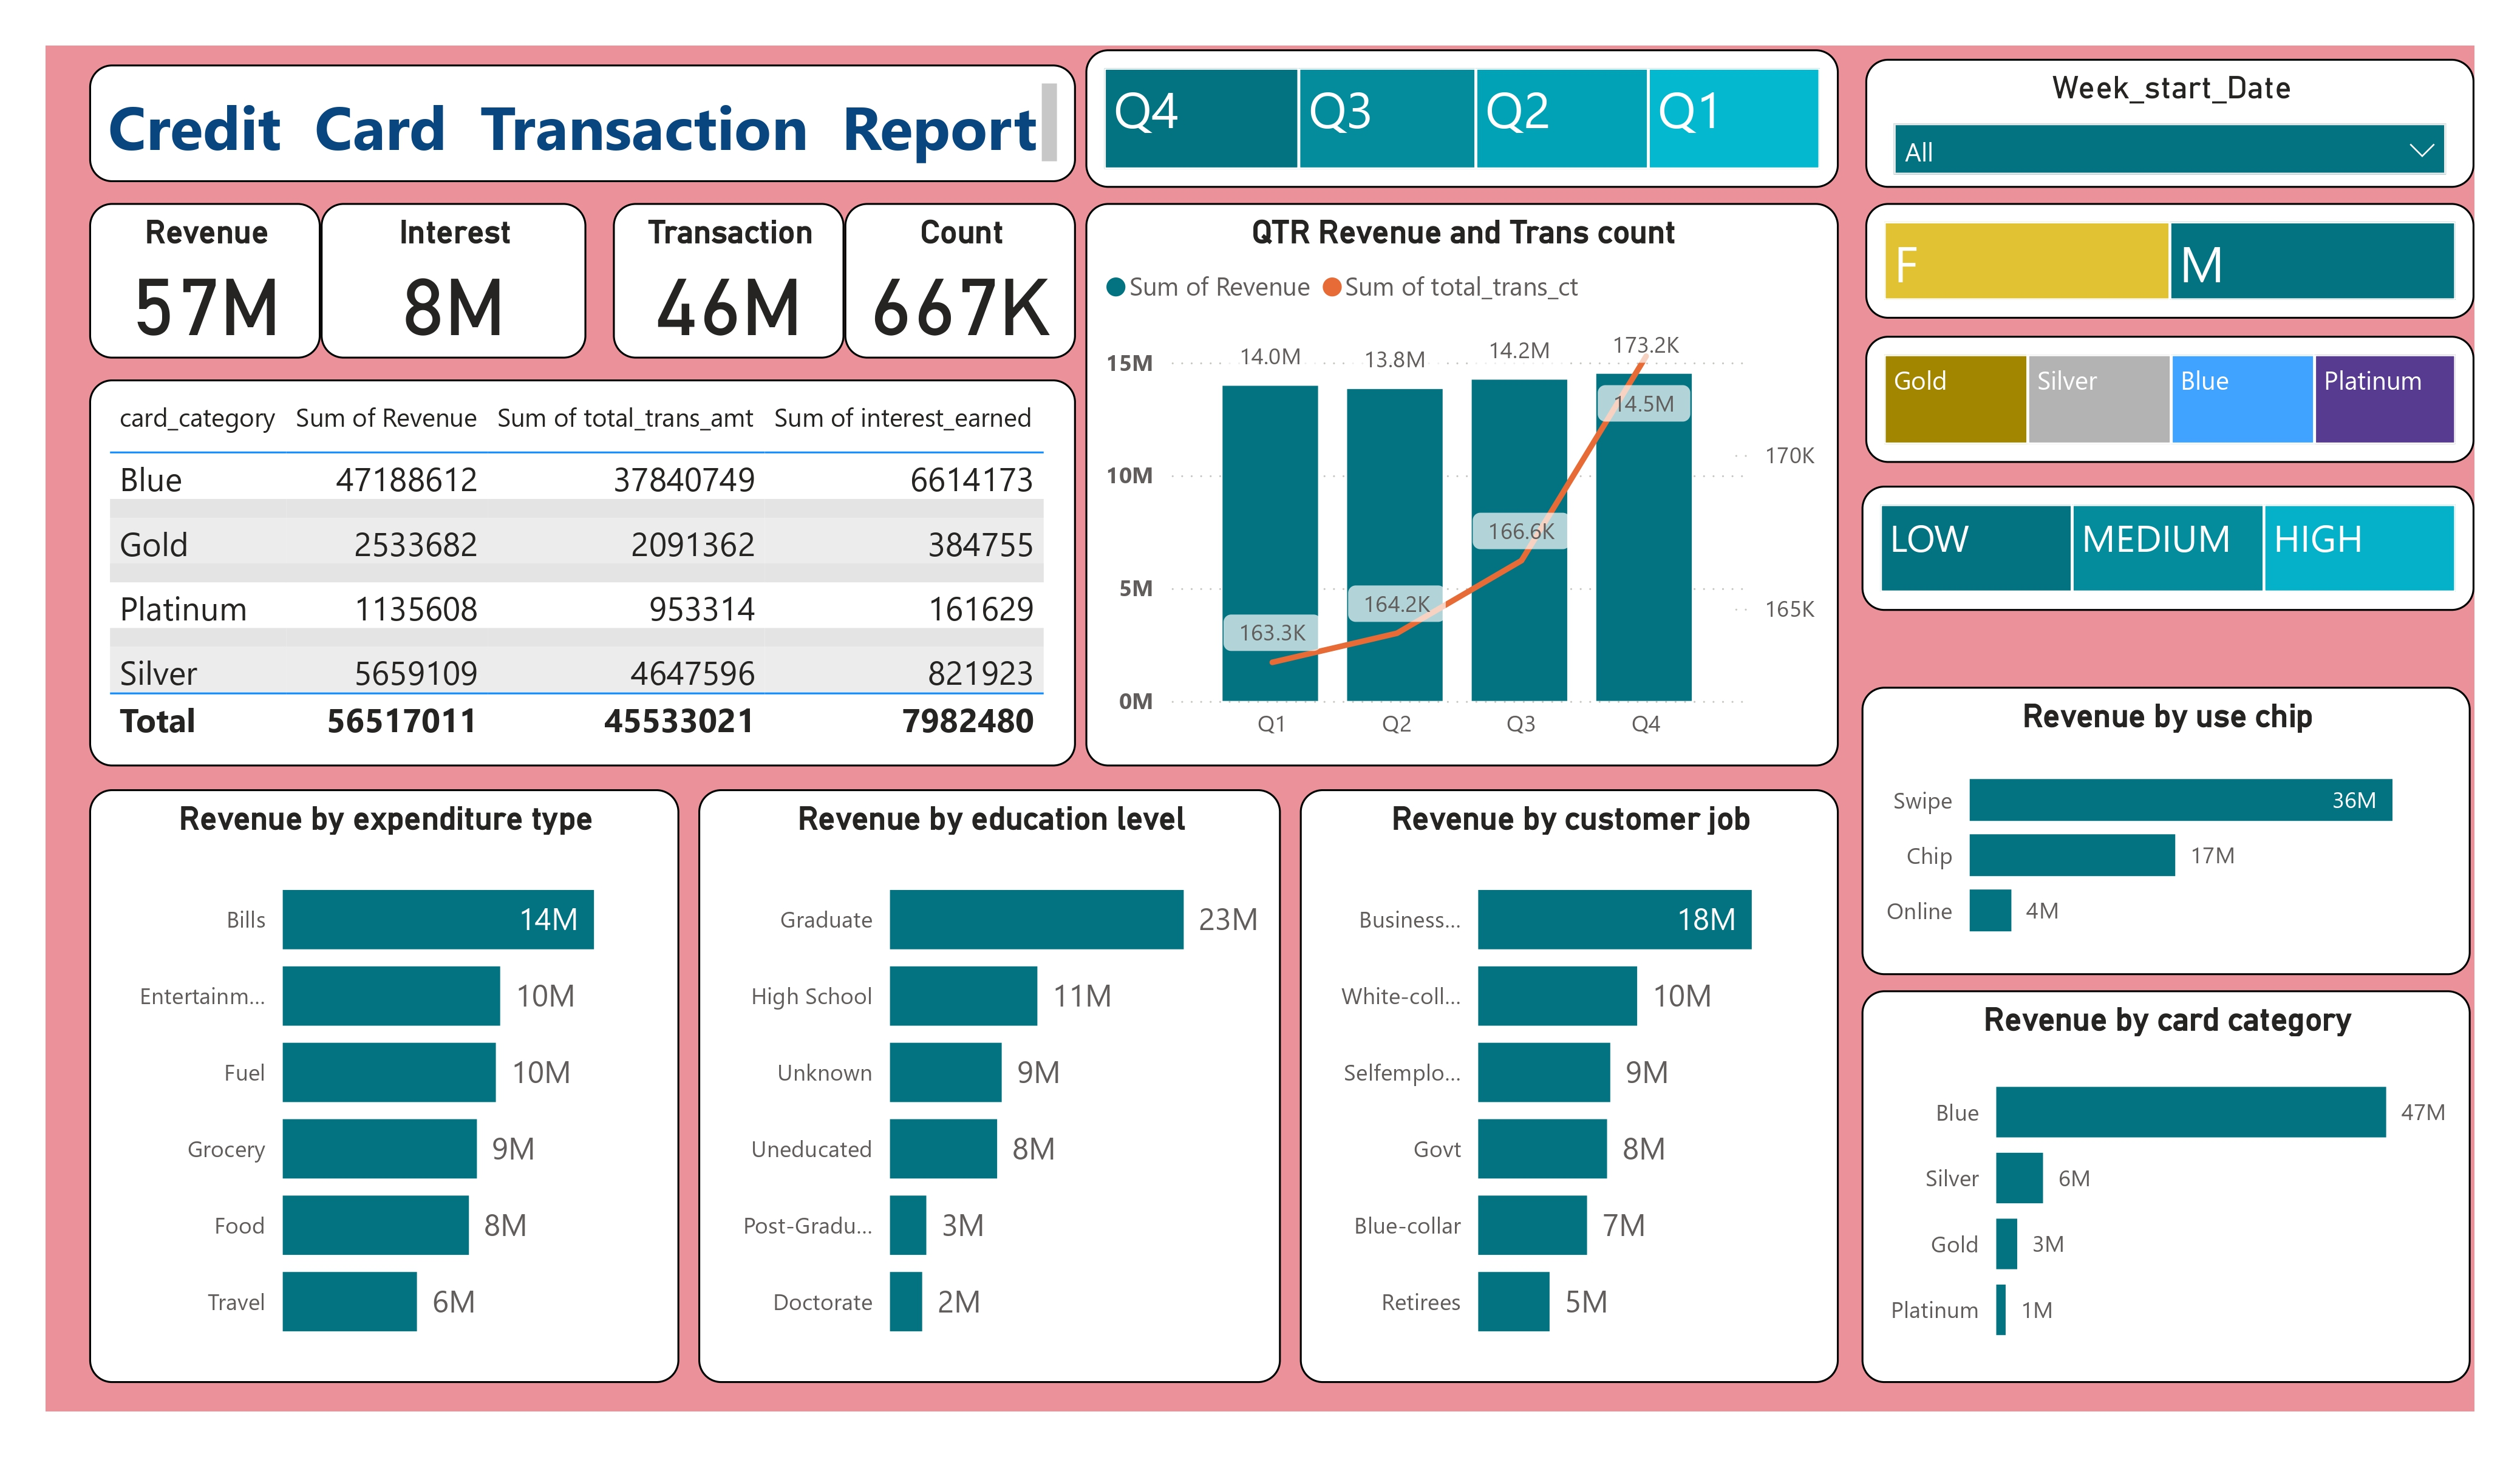

Layout of this report page (visuals, bound fields, positions):
{"tool":"powerbi","page":{"name":"CC Transaction","canvas":[1280,720],"ordinal":0},"visuals":[{"type":"textbox","box":[22.9,9.7,520,62.7],"z":0},{"type":"lineStackedColumnComboChart","title":"QTR Revenue and Trans count","fields":{"Category":["public cc_detail.qtr"],"Y":["Sum(public cc_detail.Revenue)"],"Y2":["Sum(public cc_detail.total_trans_ct)"]},"box":[547.7,83.2,396.9,296.8],"z":1000},{"type":"barChart","title":"Revenue by expenditure type","fields":{"Y":["Sum(public cc_detail.Revenue)"],"Category":["public cc_detail.exp_type"]},"box":[22.9,392.1,311.3,312.5],"z":2000},{"type":"barChart","title":"Revenue by education level","fields":{"Y":["Sum(public cc_detail.Revenue)"],"Category":["public cust_detail.education_level"]},"box":[343.8,392.1,307.6,312.5],"z":3000},{"type":"barChart","title":"Revenue by customer job","fields":{"Y":["Sum(public cc_detail.Revenue)"],"Category":["public cust_detail.customer_job"]},"box":[661.1,392.1,283.5,312.5],"z":4000},{"type":"barChart","title":"Revenue by card category","fields":{"Y":["Sum(public cc_detail.Revenue)"],"Category":["public cc_detail.card_category"]},"box":[956.7,498.3,320.9,206.3],"z":5000},{"type":"barChart","title":"Revenue by use chip","fields":{"Y":["Sum(public cc_detail.Revenue)"],"Category":["public cc_detail.use_chip"]},"box":[956.7,337.8,320.9,152],"z":6000},{"type":"tableEx","fields":{"Values":["public cc_detail.card_category","Sum(public cc_detail.Revenue)","Sum(public cc_detail.total_trans_amt)","Sum(public cc_detail.interest_earned)"]},"box":[22.9,176.1,520,203.9],"z":7000},{"type":"card","title":"Revenue","fields":{"Values":["Sum(public cc_detail.Revenue)"]},"box":[22.9,83.2,121.9,82],"z":8000},{"type":"card","title":"Interest","fields":{"Values":["Sum(public cc_detail.interest_earned)"]},"box":[144.8,83.2,139.9,82],"z":9000},{"type":"card","title":"Transaction","fields":{"Values":["Sum(public cc_detail.total_trans_amt)"]},"box":[299.2,83.2,121.9,82],"z":10000},{"type":"card","title":"Count","fields":{"Values":["Sum(public cc_detail.total_trans_ct)"]},"box":[421,83.2,122,82],"z":11000},{"type":"slicer","title":"Week_start_Date","fields":{"Values":["public cc_detail.week_start_date"]},"box":[959.1,7.2,320.9,67.6],"z":12000},{"type":"treemap","fields":{"Group":["public cc_detail.qtr"],"Values":["Avg(public cc_detail.client_num)"]},"box":[547.7,2.4,396.9,72.4],"z":13000},{"type":"treemap","fields":{"Group":["public cust_detail.gender"],"Values":["Avg(public cc_detail.client_num)"]},"box":[959.1,83.2,320.9,60.3],"z":14000},{"type":"treemap","fields":{"Group":["public cc_detail.card_category"],"Values":["Avg(public cc_detail.client_num)"]},"box":[959.1,153.2,320.9,66.4],"z":15000},{"type":"treemap","fields":{"Group":["public cust_detail.IncomeGroup"],"Values":["Avg(public cc_detail.client_num)"]},"box":[956.7,231.6,323.3,66.4],"z":16000}]}

Visuals, with their boxes on the page's 1280x720 design canvas (x1, y1, x2, y2). These are canvas units, not pixel positions in the 2520x1457 screenshot, which may show the page scaled, cropped or inside an application window:
textbox: left=23, top=10, right=543, bottom=72
"QTR Revenue and Trans count" lineStackedColumnComboChart: left=548, top=83, right=945, bottom=380
"Revenue by expenditure type" barChart: left=23, top=392, right=334, bottom=705
"Revenue by education level" barChart: left=344, top=392, right=651, bottom=705
"Revenue by customer job" barChart: left=661, top=392, right=945, bottom=705
"Revenue by card category" barChart: left=957, top=498, right=1278, bottom=705
"Revenue by use chip" barChart: left=957, top=338, right=1278, bottom=490
tableEx - public cc_detail.card_category x Sum(public cc_detail.Revenue): left=23, top=176, right=543, bottom=380
"Revenue" card: left=23, top=83, right=145, bottom=165
"Interest" card: left=145, top=83, right=285, bottom=165
"Transaction" card: left=299, top=83, right=421, bottom=165
"Count" card: left=421, top=83, right=543, bottom=165
"Week_start_Date" slicer: left=959, top=7, right=1280, bottom=75
treemap - public cc_detail.qtr x Avg(public cc_detail.client_num): left=548, top=2, right=945, bottom=75
treemap - public cust_detail.gender x Avg(public cc_detail.client_num): left=959, top=83, right=1280, bottom=144
treemap - public cc_detail.card_category x Avg(public cc_detail.client_num): left=959, top=153, right=1280, bottom=220
treemap - public cust_detail.IncomeGroup x Avg(public cc_detail.client_num): left=957, top=232, right=1280, bottom=298
